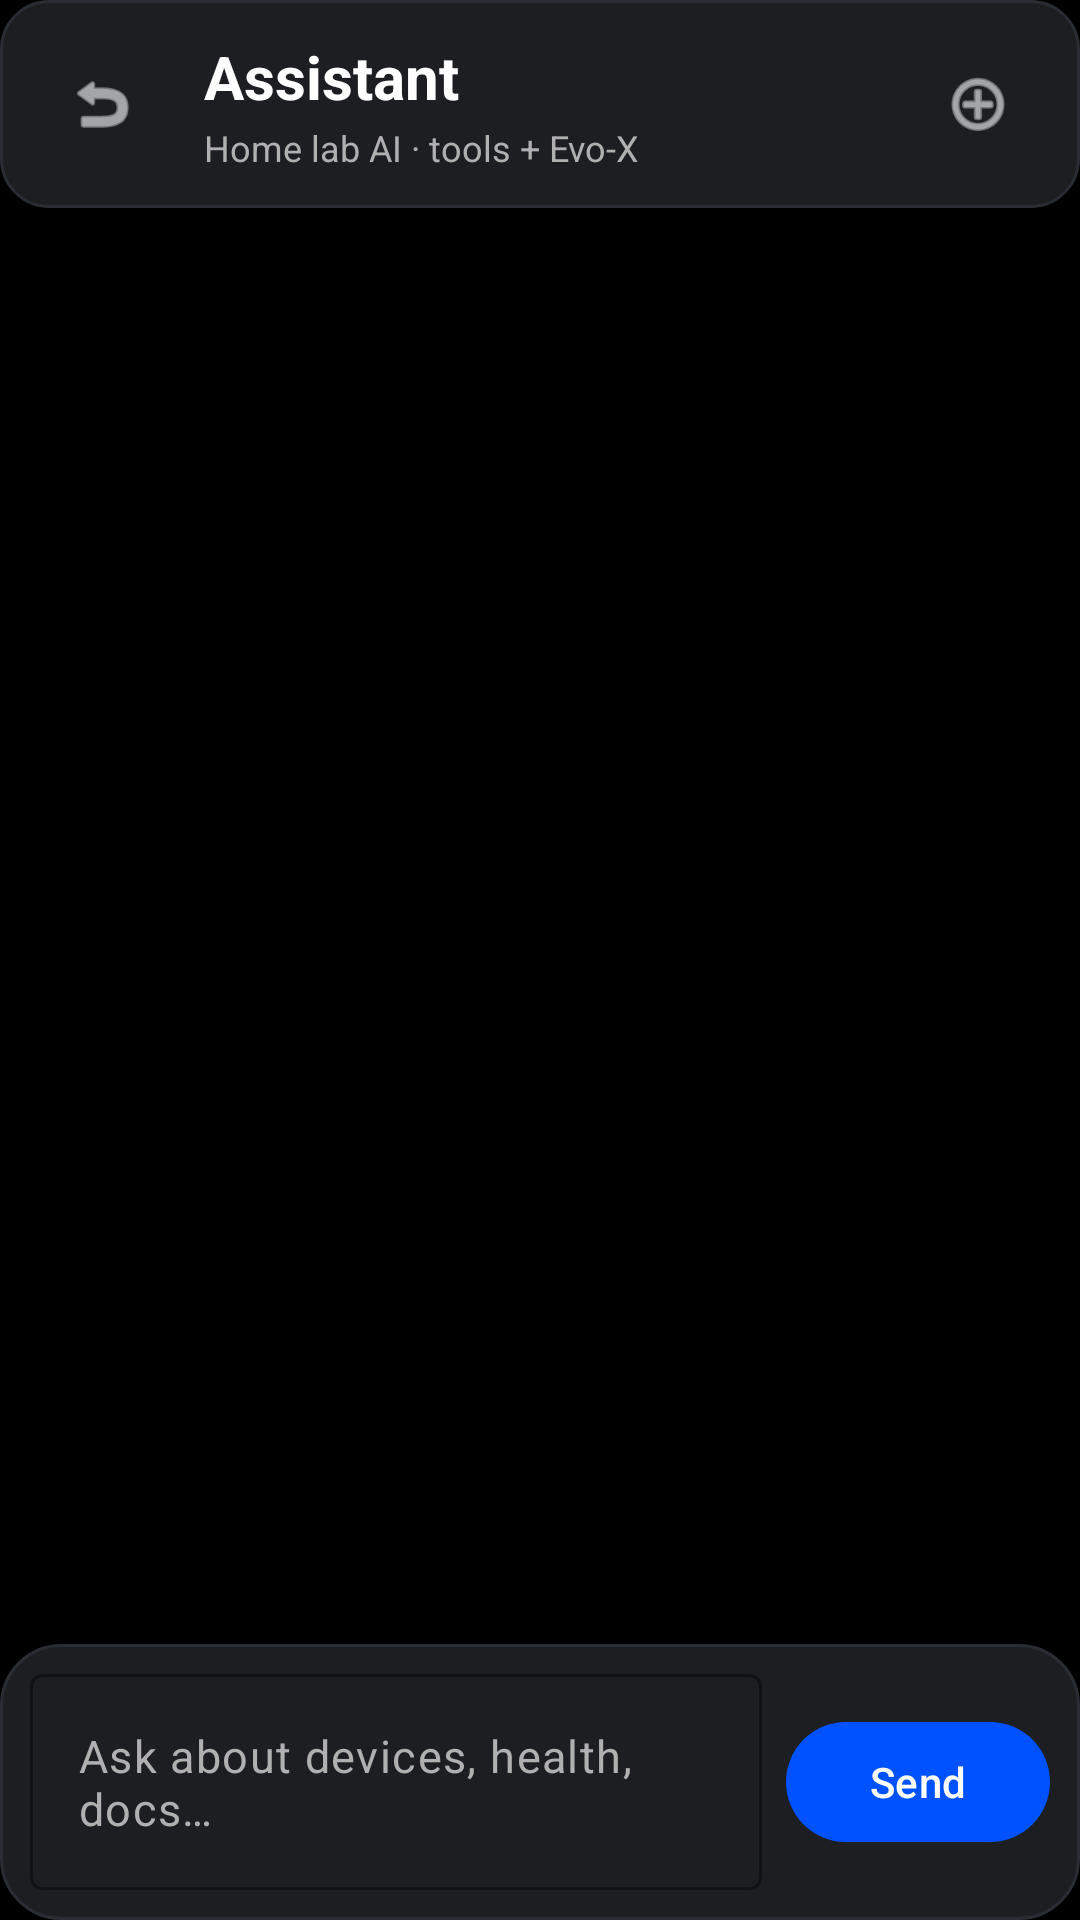

Screen size 1080 × 1920. Icon name, then its box in pixels as (x1, y1, x2, y2):
New chat: (951, 78, 1005, 131)
← Back to Dashboard: (77, 81, 129, 128)
